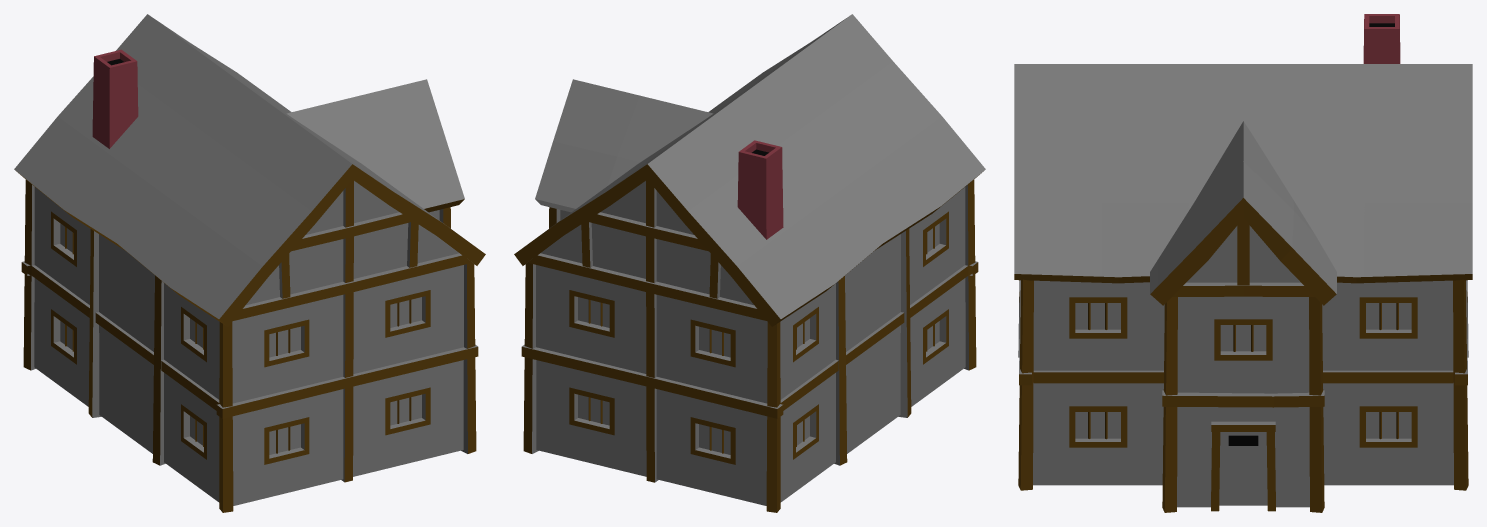
File: greekbarracks.fbx
3 renders of one model, left to right at view 1: azimuth 30°, elevation 25°; view 2: azimuth 150°, elevation 25°; view 3: azimuth 270°, elevation 25°, orthographic. The views are drawn at different scales.
Parts seen in each view (by area): view 1: house-medieval_big; view 2: house-medieval_big; view 3: house-medieval_big.
Boxes of the visible parts, <box> form: house-medieval_big: <box>14,14,485,512</box>; house-medieval_big: <box>514,14,985,512</box>; house-medieval_big: <box>1014,14,1472,512</box>.
Bounding box in the file's own units: 817 × 806 × 928.
